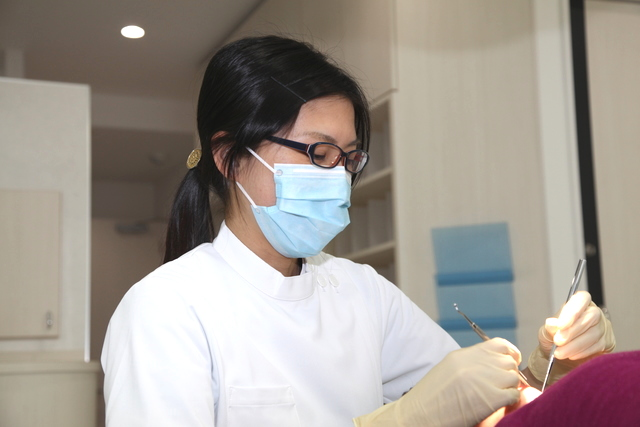mask: (253, 164, 352, 260)
